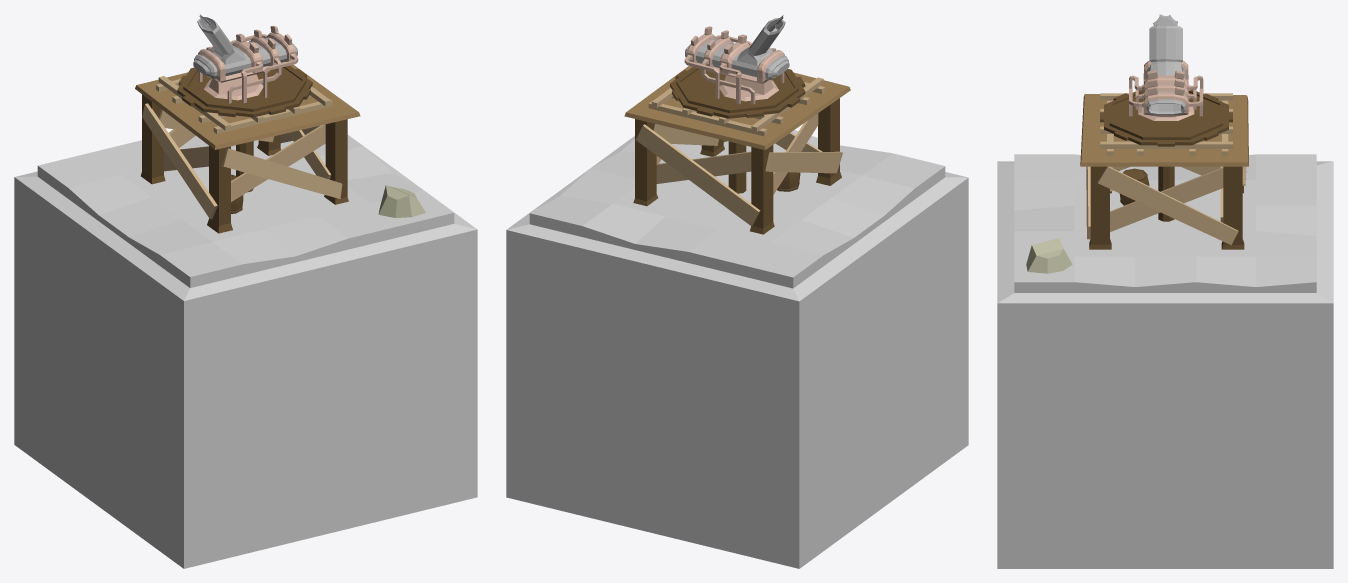
File: tile_bladelauncher.fbx
3 renders of one model, left to right at view 1: azimuth 30°, elevation 25°; view 2: azimuth 150°, elevation 25°; view 3: azimuth 270°, elevation 25°, orthographic.
Parts seen in each view (by area): view 1: Tile, Ground, Base, Bladebarrel; view 2: Tile, Ground, Base, Bladebarrel; view 3: Tile, Ground, Base, Bladebarrel.
Boxes of the visible parts, <box> form: Tile: <box>14,135,477,568</box>; Ground: <box>37,136,454,287</box>; Base: <box>135,64,425,233</box>; Bladebarrel: <box>177,14,312,192</box>; Tile: <box>506,136,968,568</box>; Ground: <box>529,130,945,288</box>; Base: <box>624,65,850,234</box>; Bladebarrel: <box>670,15,805,193</box>; Tile: <box>997,161,1333,568</box>; Ground: <box>1014,154,1316,292</box>; Base: <box>1026,93,1248,273</box>; Bladebarrel: <box>1100,14,1232,221</box>.
Size of the model in its own units: 0.04 by 0.0607 by 0.04.
